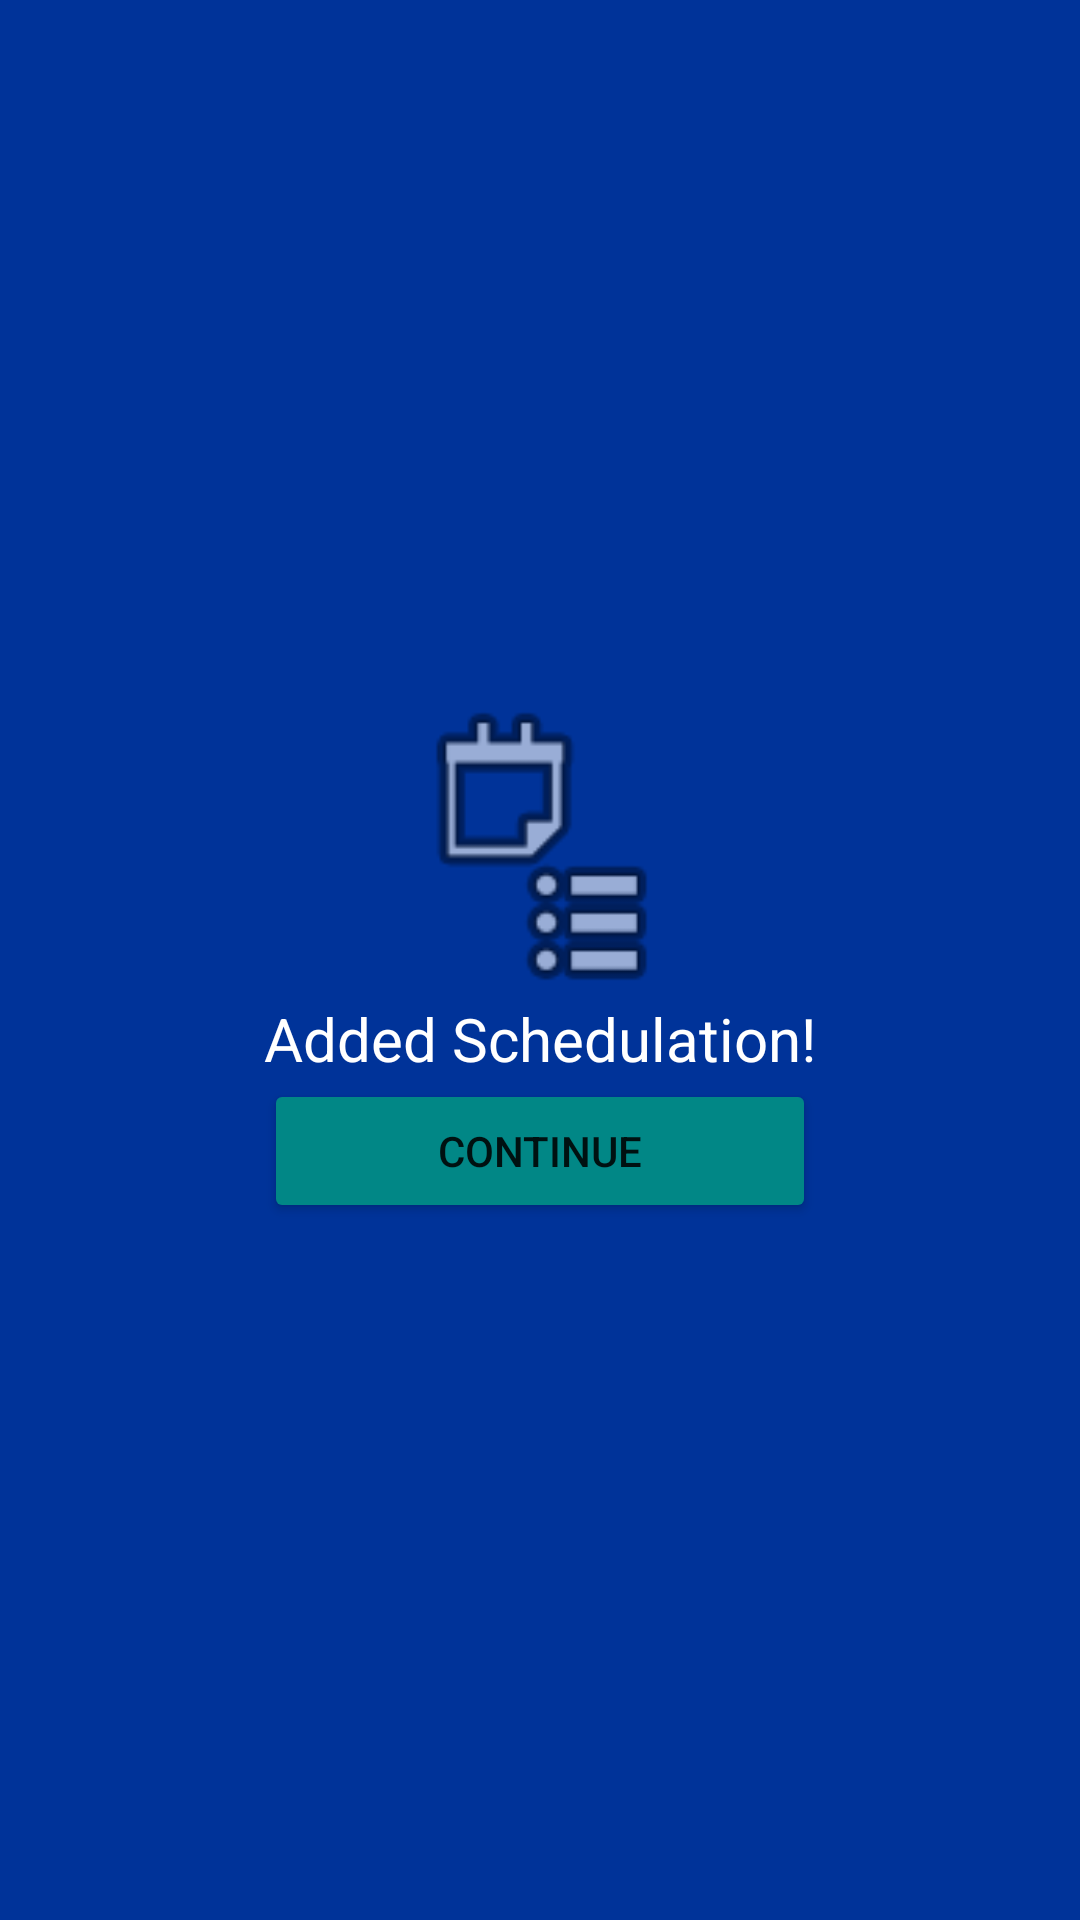

Point at icon controls on the screen. Image size 1080x1920, points as point (x, y).
agenda: point (542, 846)
